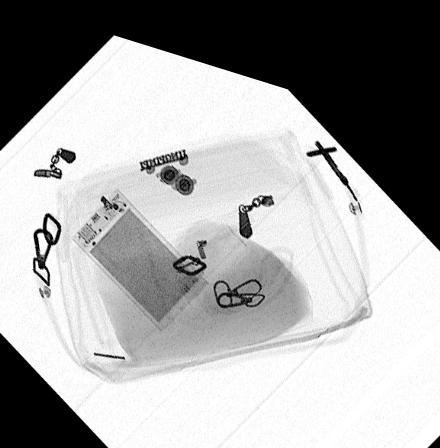Powerbank: (70, 180, 207, 323)
